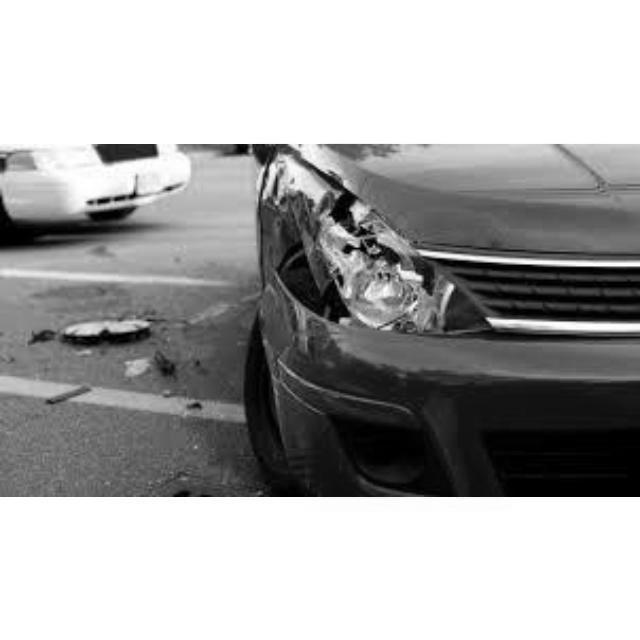Headlight-damage: (276, 190, 479, 346)
